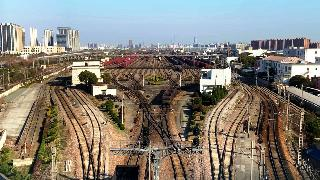train: (162, 84, 178, 105), (177, 66, 184, 72)
